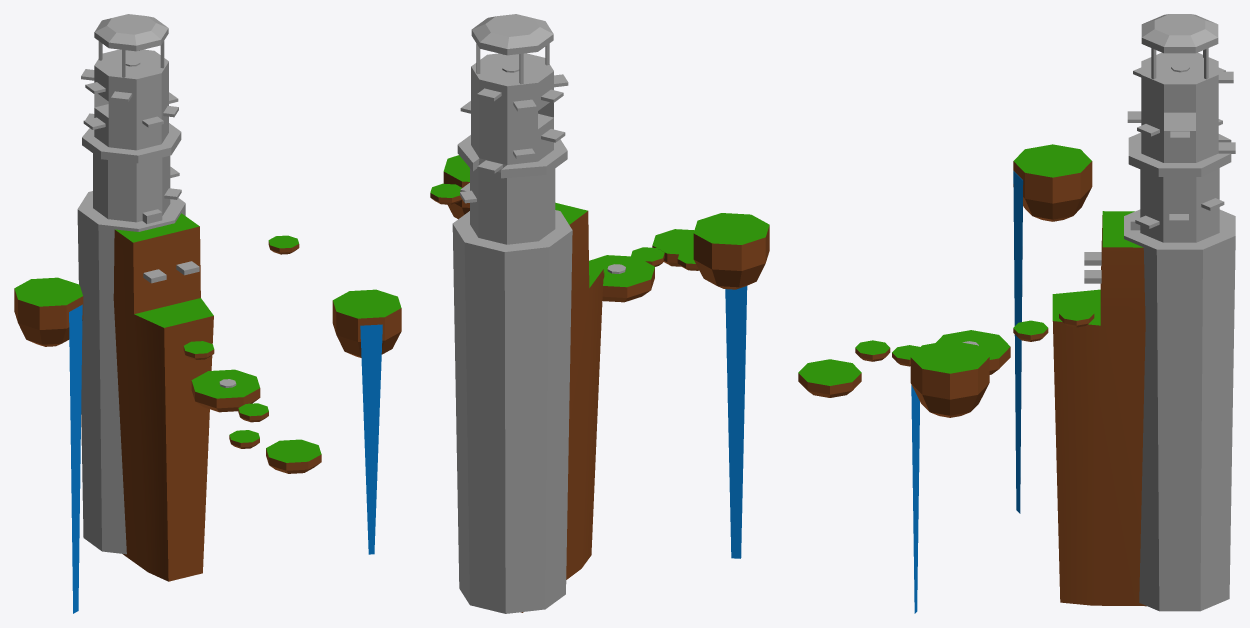
Rendered from RedLevel.fbx.
3 views of the same model, side by side, from view 1: azimuth 30°, elevation 25°; view 2: azimuth 150°, elevation 25°; view 3: azimuth 270°, elevation 25° (orthographic). The views are drawn at different scales.
Parts seen in each view (by area): view 1: pCube1, pCylinder7, pCylinder11, pPlane2, pCylinder10, pPlane1, pCylinder4, pCylinder8, pCylinder1; view 2: pCylinder7, pCube1, pCylinder11, pPlane1, pCylinder8, pCylinder4, pCylinder1, pCylinder10, pCylinder12; view 3: pCylinder7, pCube1, pCylinder10, pCylinder11, pCylinder8, pPlane1, pCylinder1, pPlane2, pCylinder4, pCylinder2, pCylinder12, pCylinder6.
Part boxes in pixels (x1,y1,x2,y2): pCube1: (113, 213, 213, 581); pCylinder7: (77, 49, 185, 554); pCylinder11: (14, 277, 83, 346); pPlane2: (360, 324, 382, 554); pCylinder10: (332, 289, 401, 357); pPlane1: (69, 304, 82, 613); pCylinder4: (191, 369, 260, 412); pCylinder8: (94, 14, 168, 51); pCylinder1: (266, 439, 321, 473); pCylinder7: (452, 53, 572, 613); pCube1: (521, 202, 603, 612); pCylinder11: (693, 213, 769, 289); pPlane1: (725, 286, 747, 558); pCylinder8: (471, 14, 553, 55); pCylinder4: (589, 255, 654, 302); pCylinder1: (652, 229, 694, 266); pCylinder10: (443, 155, 469, 219); pCylinder12: (430, 183, 462, 204); pCylinder7: (1124, 52, 1235, 611); pCube1: (1052, 211, 1146, 606); pCylinder10: (910, 340, 989, 417); pCylinder11: (1013, 144, 1092, 221); pCylinder8: (1141, 14, 1218, 53); pPlane1: (1013, 171, 1023, 513); pCylinder1: (798, 359, 861, 397); pPlane2: (911, 385, 919, 613); pCylinder4: (936, 330, 1010, 374); pCylinder2: (855, 340, 890, 361); pCylinder12: (1059, 306, 1094, 327); pCylinder6: (1013, 320, 1048, 341).
Size of the model in its own units: 25.91 by 38.18 by 26.58.
